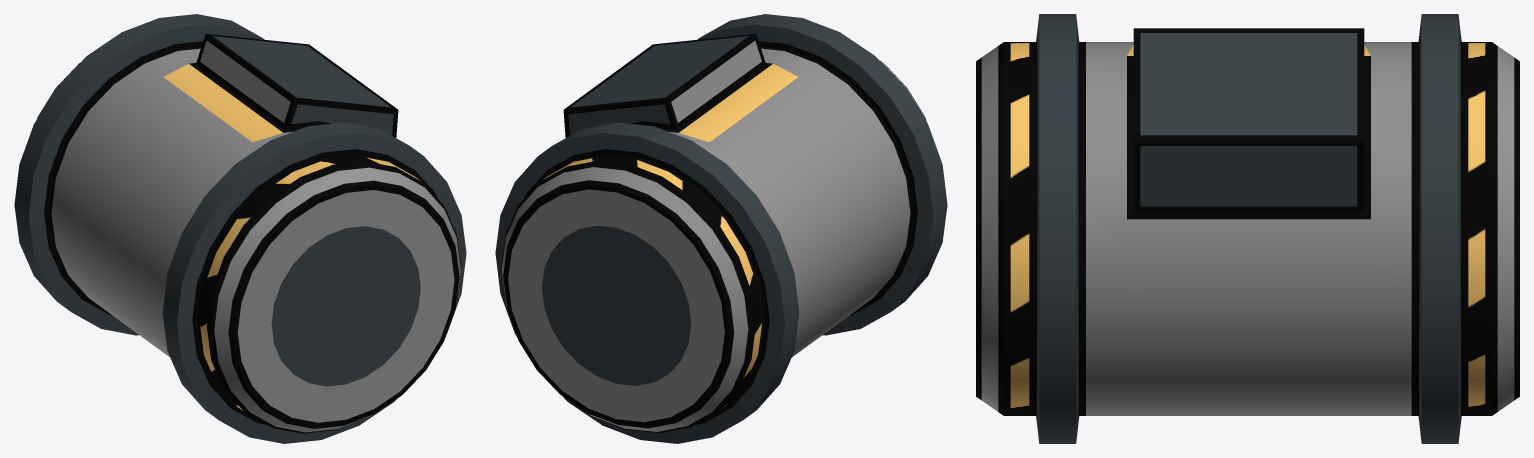
File: NotSoMiniGun Debris Model.fbx
The picture shows the model from 3 angles, left to right: view 1: azimuth 30°, elevation 25°; view 2: azimuth 150°, elevation 25°; view 3: azimuth 270°, elevation 25°; orthographic projection. The views are drawn at different scales.
Parts seen in each view (by area): view 1: NotSoMniGun_Mag_Debris; view 2: NotSoMniGun_Mag_Debris; view 3: NotSoMniGun_Mag_Debris.
Boxes of the visible parts, <box> form: NotSoMniGun_Mag_Debris: <box>14,14,466,443</box>; NotSoMniGun_Mag_Debris: <box>495,14,947,443</box>; NotSoMniGun_Mag_Debris: <box>976,14,1519,443</box>.
Size of the model in its own units: 0.5448 by 0.6863 by 0.5605.
